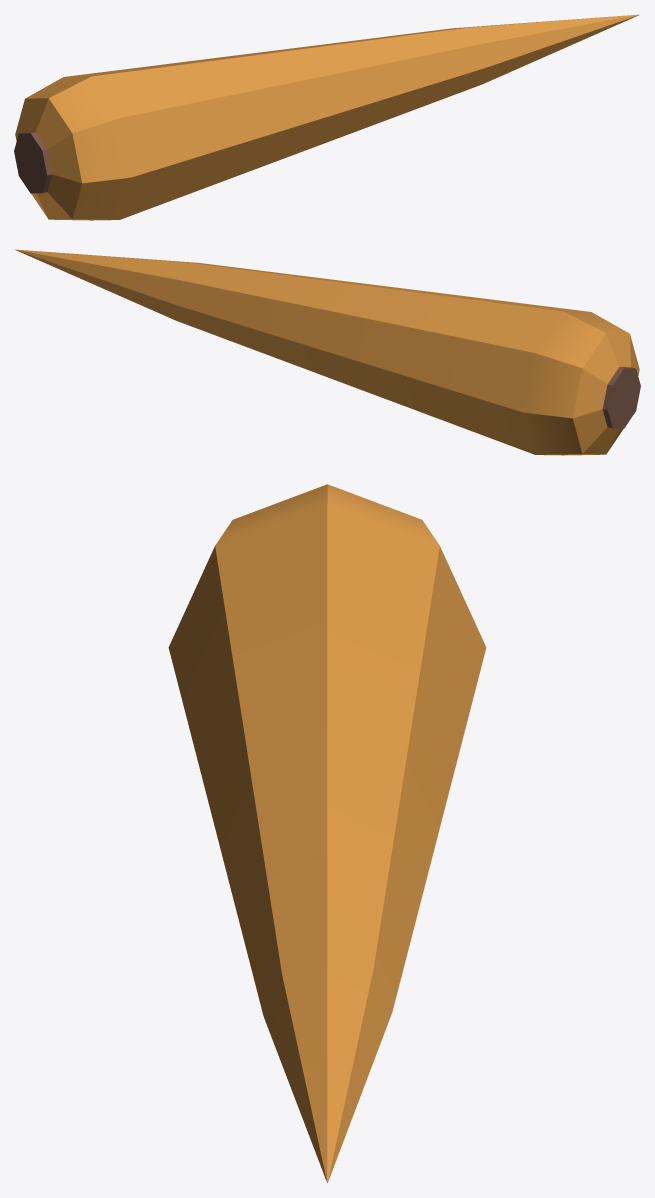
The model's file is carrot.glb.
The picture shows the model from 3 angles, top to bottom: view 1: azimuth 30°, elevation 25°; view 2: azimuth 150°, elevation 25°; view 3: azimuth 270°, elevation 25°; orthographic projection. The views are drawn at different scales.
Visible parts, largest first — view 1: Google:pCylinder1; view 2: Google:pCylinder1; view 3: Google:pCylinder1.
Part boxes in pixels (x1,y1,x2,y2): Google:pCylinder1: (14,14,639,220); Google:pCylinder1: (15,249,640,455); Google:pCylinder1: (168,484,486,1183).
Size of the model in its own units: 106 by 23.85 by 23.85.
